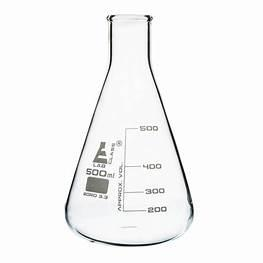Titrarion: (52, 18, 204, 245)
